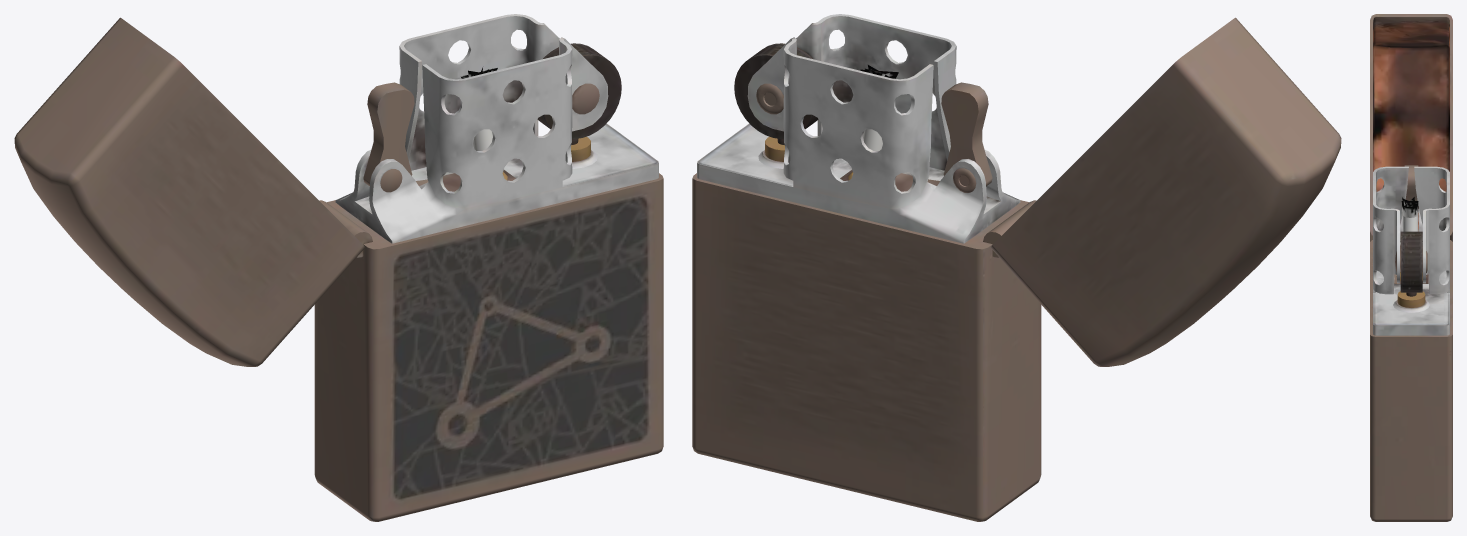
File: vintage_lighter.glb
3 renders of one model, left to right at view 1: azimuth 30°, elevation 25°; view 2: azimuth 150°, elevation 25°; view 3: azimuth 270°, elevation 25°, orthographic. The views are drawn at different scales.
Visible parts, largest first — view 1: vintage_lighter_body, vintage_lighter_hinge, vintage_lighter_hammer, vintage_lighter_flintstone; view 2: vintage_lighter_body, vintage_lighter_hinge, vintage_lighter_hammer, vintage_lighter_flintstone; view 3: vintage_lighter_body, vintage_lighter_hinge, vintage_lighter_flintstone, vintage_lighter_hammer.
Boxes of the visible parts, bbox=[...] form: vintage_lighter_body: bbox=[314, 14, 663, 521]; vintage_lighter_hinge: bbox=[14, 17, 372, 366]; vintage_lighter_hammer: bbox=[363, 82, 414, 192]; vintage_lighter_flintstone: bbox=[537, 43, 621, 138]; vintage_lighter_body: bbox=[692, 14, 1041, 521]; vintage_lighter_hinge: bbox=[983, 17, 1341, 366]; vintage_lighter_hammer: bbox=[941, 82, 992, 192]; vintage_lighter_flintstone: bbox=[734, 43, 818, 138]; vintage_lighter_body: bbox=[1370, 166, 1452, 521]; vintage_lighter_hinge: bbox=[1370, 14, 1452, 241]; vintage_lighter_flintstone: bbox=[1395, 231, 1427, 292]; vintage_lighter_hammer: bbox=[1404, 165, 1418, 224].
Bounding box in the file's own units: 0.0796 × 0.065 × 0.014.
Materials: 2 (2 with a texture image).
